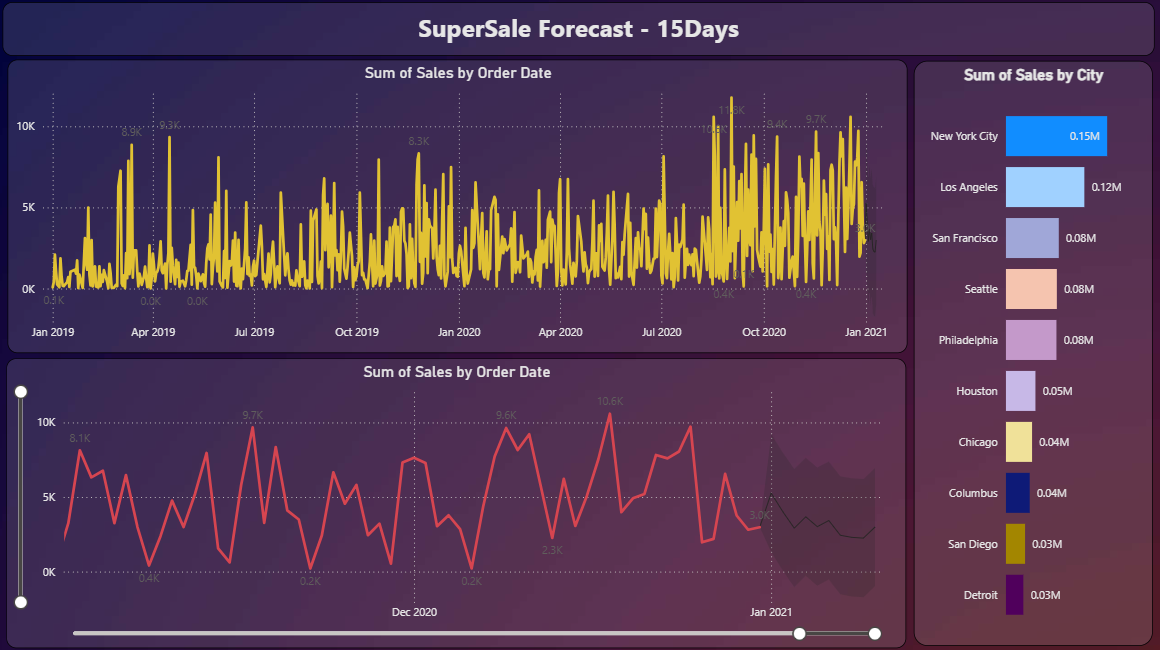

The page's visual inventory and layout, read from the dashboard file:
{"tool":"powerbi","page":{"name":"Page 2","canvas":[1280,720],"ordinal":1},"visuals":[{"type":"lineChart","fields":{"Y":["Sum(SuperStore_Sales_Dataset.Sales)"],"Category":["SuperStore_Sales_Dataset.Order Date"]},"box":[13.7,68.6,988,322.5],"z":0},{"type":"lineChart","fields":{"Y":["Sum(SuperStore_Sales_Dataset.Sales)"],"Category":["SuperStore_Sales_Dataset.Order Date"]},"box":[12.3,396.6,988,318.4],"z":1},{"type":"clusteredBarChart","fields":{"Category":["SuperStore_Sales_Dataset.City"],"Y":["Sum(SuperStore_Sales_Dataset.Sales)"]},"box":[1008.6,70,262.1,642.2],"z":2},{"type":"textbox","box":[8.2,5.5,1265.2,59],"z":3}]}

Visuals, with their boxes in screenshot pixels (x1, y1, x2, y2), scaled from the page's 1280x720 canvas onto the 1160x650 screenshot:
lineChart - Sum(SuperStore_Sales_Dataset.Sales) x SuperStore_Sales_Dataset.Order Date: bbox=[12, 62, 908, 353]
lineChart - Sum(SuperStore_Sales_Dataset.Sales) x SuperStore_Sales_Dataset.Order Date: bbox=[11, 358, 907, 645]
clusteredBarChart - SuperStore_Sales_Dataset.City x Sum(SuperStore_Sales_Dataset.Sales): bbox=[914, 63, 1152, 643]
textbox: bbox=[7, 5, 1154, 58]
